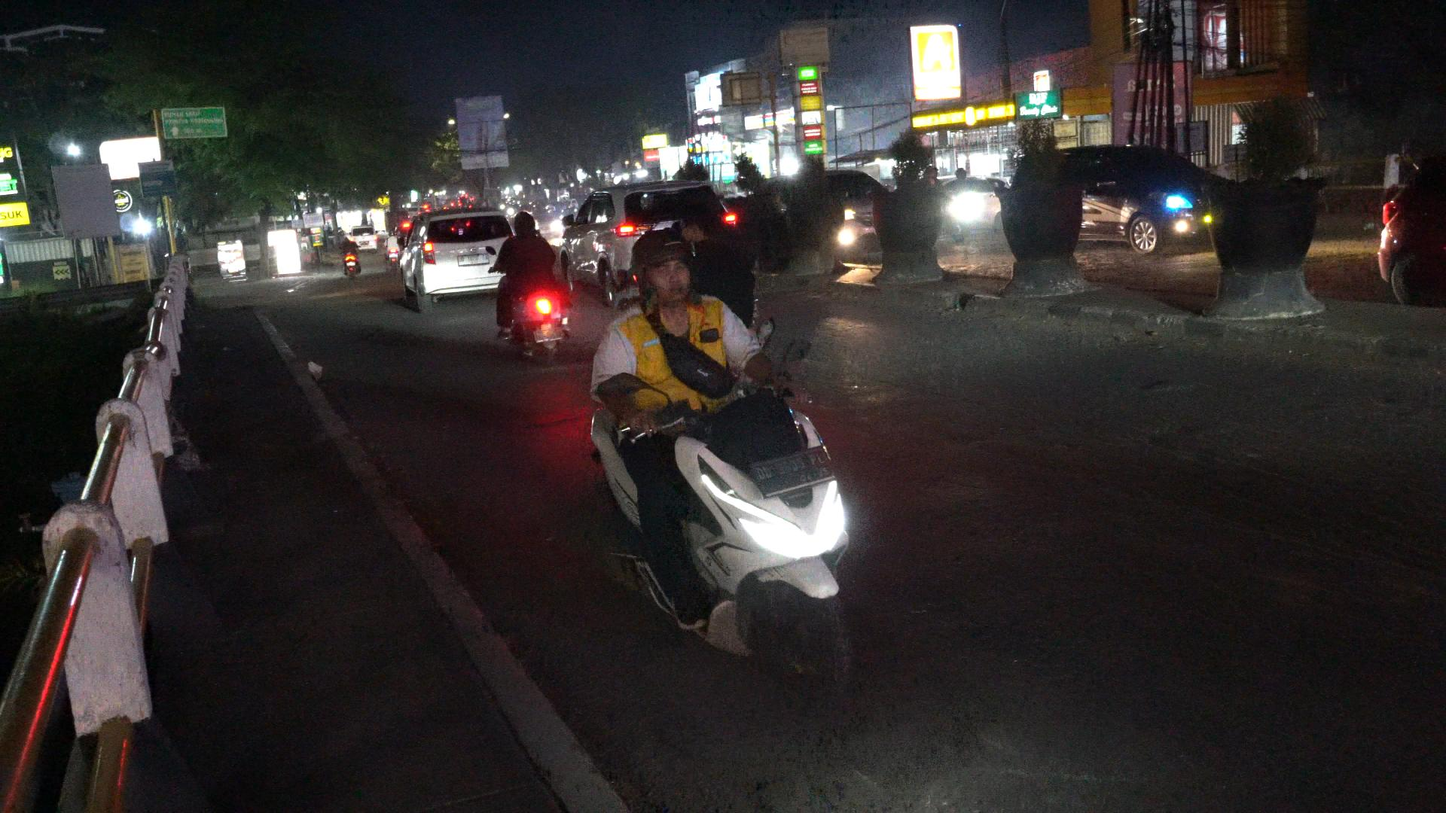number-plate: (752, 445, 842, 500)
